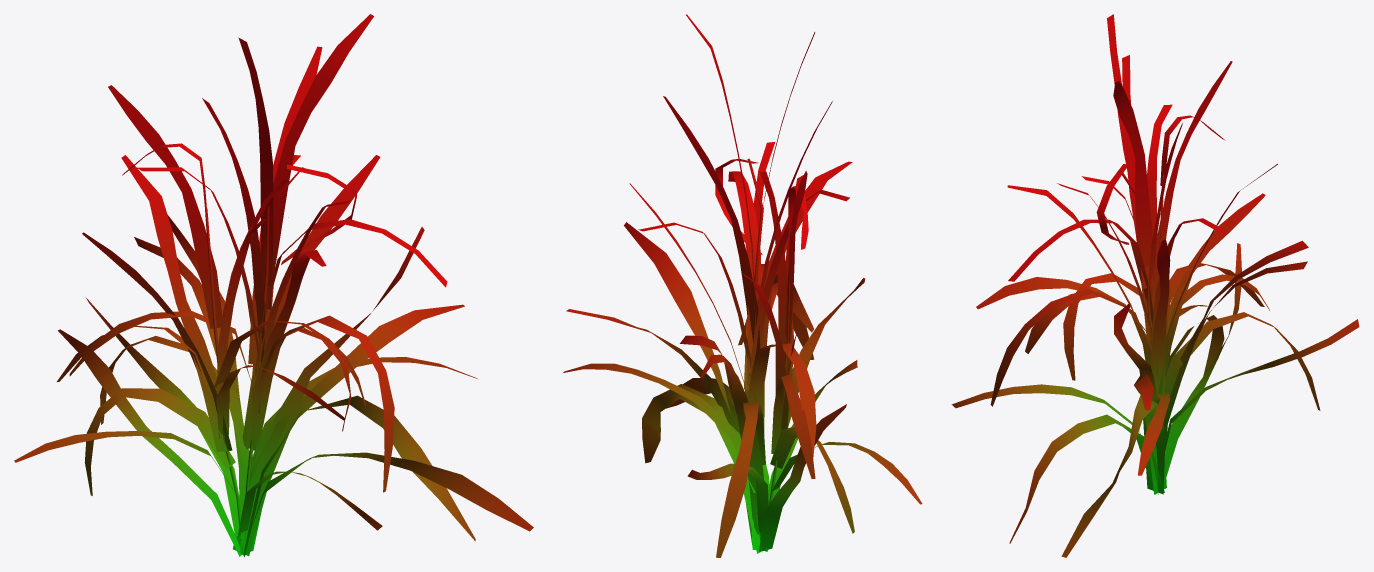
File: Var4_LOD1.fbx
3 views of the same model, side by side, from view 1: azimuth 30°, elevation 25°; view 2: azimuth 150°, elevation 25°; view 3: azimuth 270°, elevation 25° (orthographic). The views are drawn at different scales.
Parts seen in each view (by area): view 1: _ef29_Var4_LOD1; view 2: _ef29_Var4_LOD1; view 3: _ef29_Var4_LOD1.
Part boxes in pixels (left/top/right/bottom): _ef29_Var4_LOD1: left=14, top=14, right=533, bottom=557; _ef29_Var4_LOD1: left=563, top=14, right=922, bottom=557; _ef29_Var4_LOD1: left=951, top=14, right=1359, bottom=557.
Bounding box in the file's own units: 44.71 × 54.98 × 43.56.
